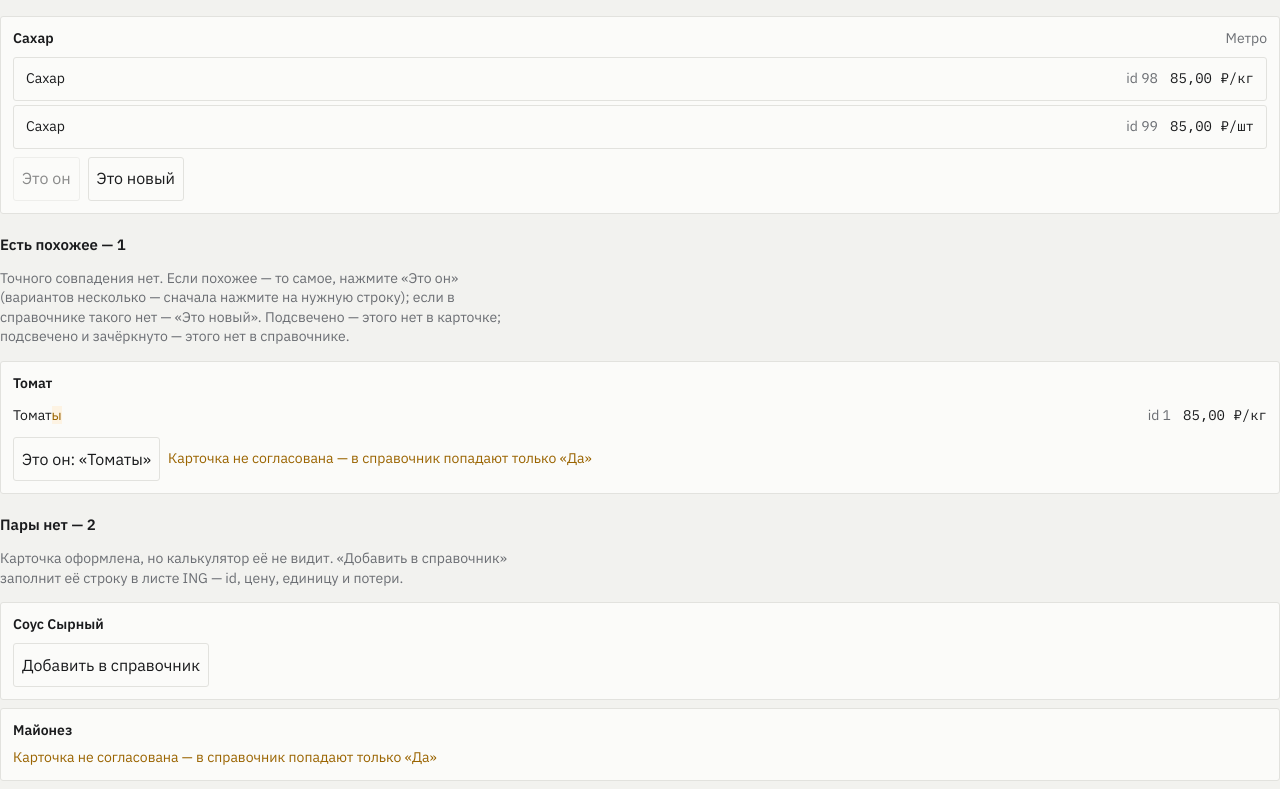
Test case: форма: подтянутое — только для чтения, id показан, L скрыт с пометкой, если формула
(page scrolled)
Click the button "Добавить в справочник": [111, 665] box [13,643,209,687]
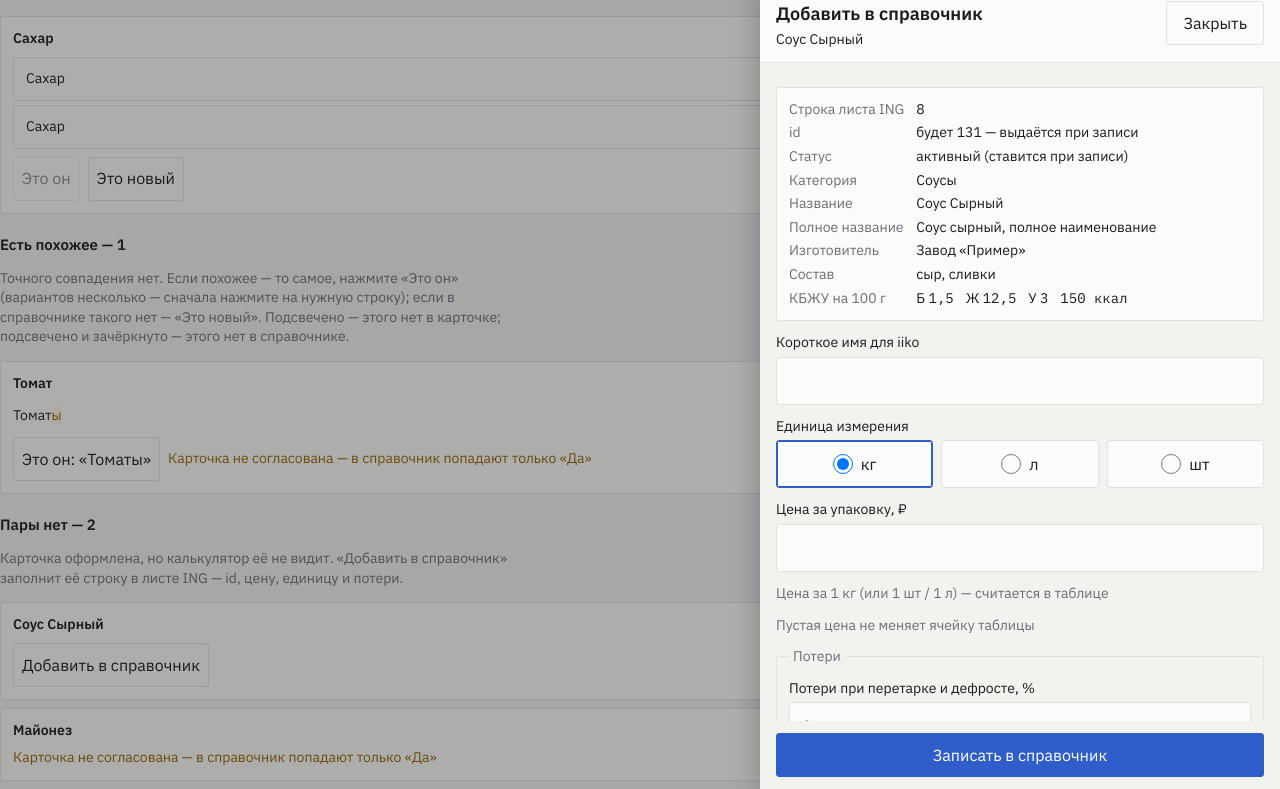
Check: the text "Соусы" is shown, box [916,171,957,189]
Check: the text "Соус сырный, полное наименование" is shown, box [916,218,1156,236]
Check: the text "Завод «Пример»" is shown, box [916,241,1025,259]
